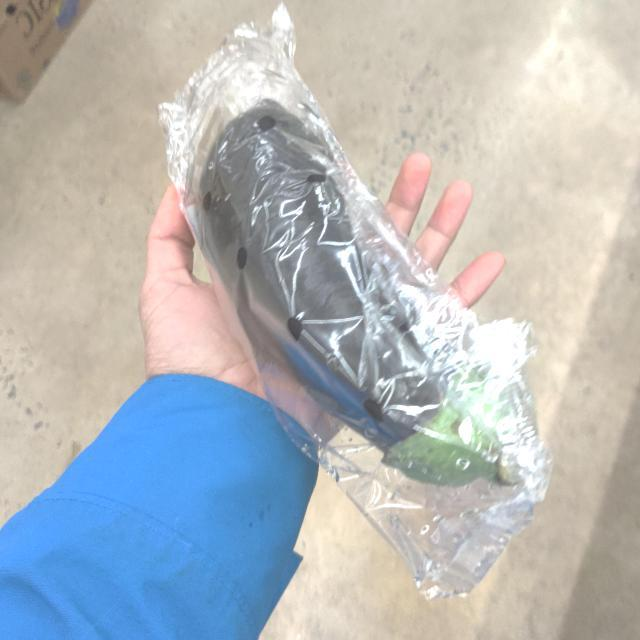Egg Plant: (190, 101, 512, 480)
